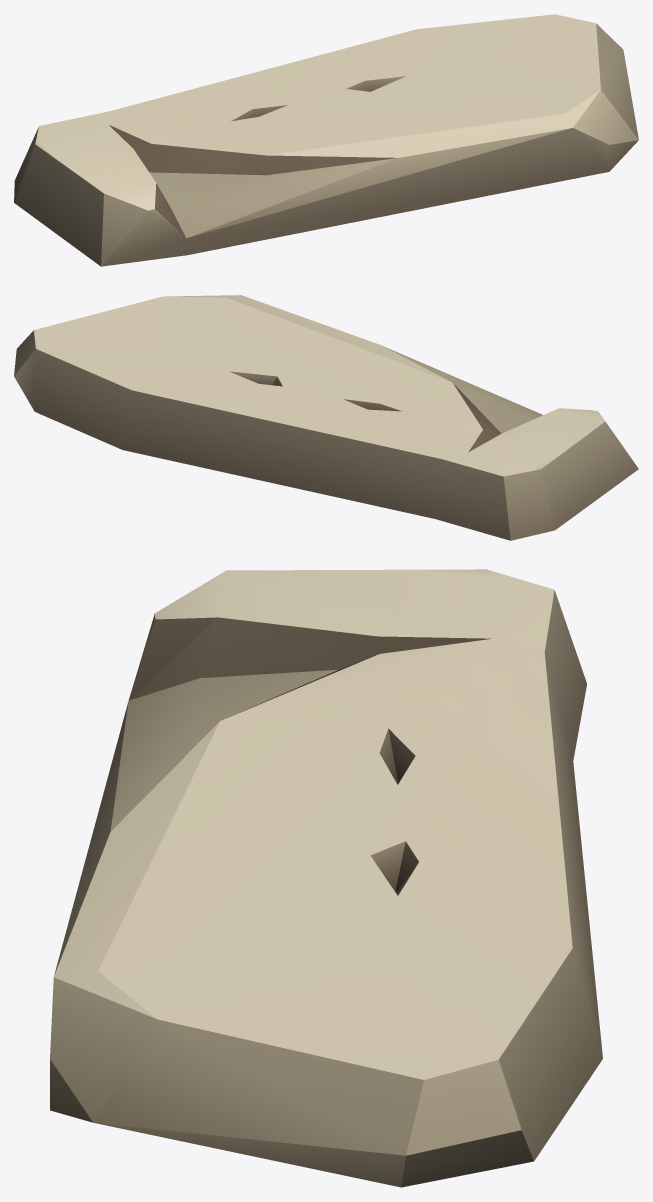
The model's file is Stone_Step_1B.fbx.
3 views of the same model, one above another, from view 1: azimuth 30°, elevation 25°; view 2: azimuth 150°, elevation 25°; view 3: azimuth 270°, elevation 25° (orthographic). The views are drawn at different scales.
Parts seen in each view (by area): view 1: Stone_Step_1B; view 2: Stone_Step_1B; view 3: Stone_Step_1B.
Boxes of the visible parts, x1,y1,x2,y2 form: Stone_Step_1B: [14, 14, 638, 266]; Stone_Step_1B: [14, 295, 638, 540]; Stone_Step_1B: [50, 569, 602, 1187].
Bounding box in the file's own units: 3.13 × 0.2922 × 1.33.
